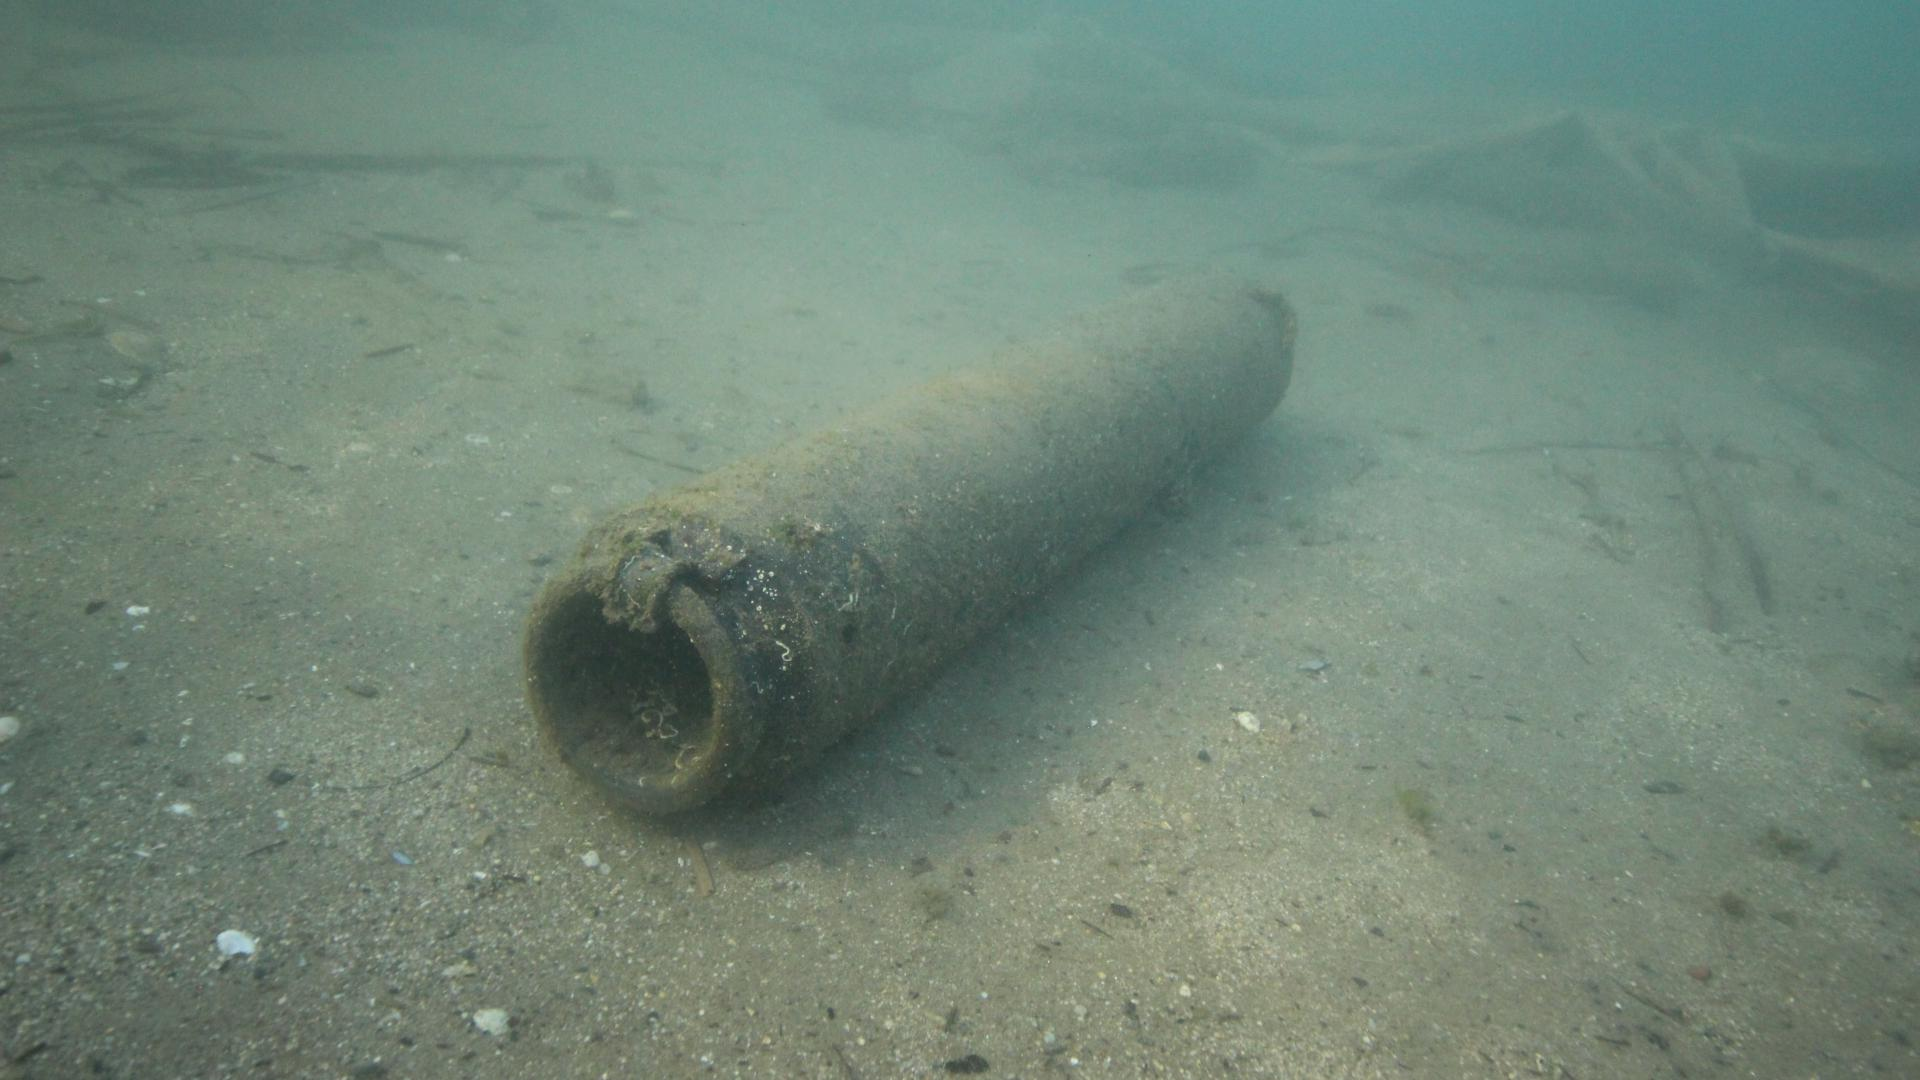eel fish trap: (525, 269, 1294, 818)
